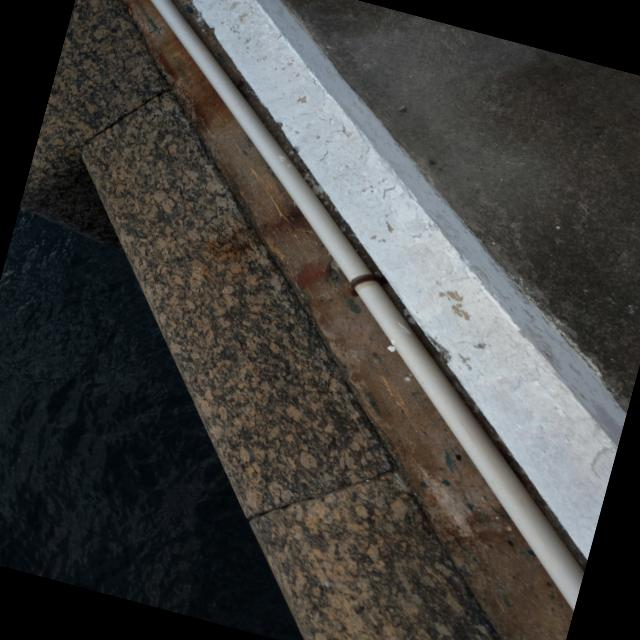gas: (148, 0, 584, 609)
